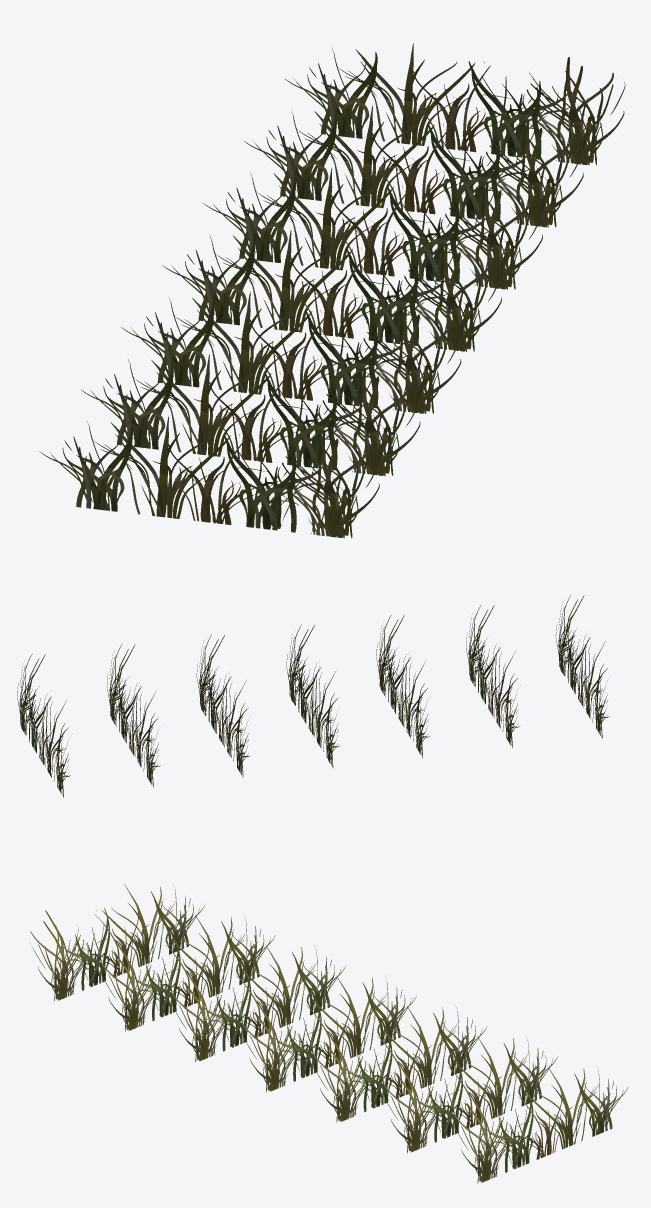
The model's file is grass1.obj.
The picture shows the model from 3 angles, top to bottom: view 1: azimuth 30°, elevation 25°; view 2: azimuth 150°, elevation 25°; view 3: azimuth 270°, elevation 25°; orthographic projection. The views are drawn at different scales.
Parts seen in each view (by area): view 1: grass1; view 2: grass1; view 3: grass1.
Part boxes in pixels (left/top/right/bottom): grass1: left=39, top=43, right=625, bottom=538; grass1: left=17, top=595, right=609, bottom=797; grass1: left=30, top=884, right=628, bottom=1183.
Size of the model in its own units: 0.3406 by 0.053 by 0.338.
